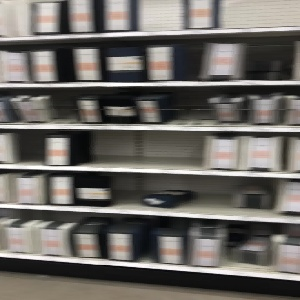void: (112, 178, 278, 211), (92, 128, 203, 174), (226, 225, 277, 273), (219, 1, 300, 27), (245, 41, 293, 84), (170, 85, 213, 125), (140, 1, 181, 33), (14, 129, 45, 169), (50, 93, 81, 127), (1, 1, 28, 38)
